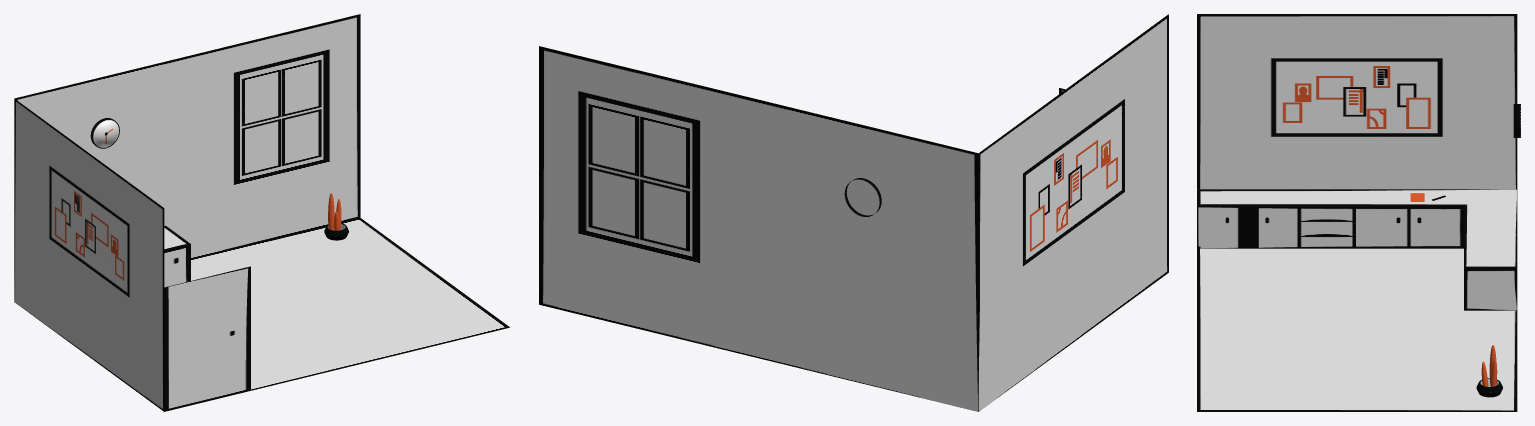
The model's file is office1.fbx.
3 renders of one model, left to right at view 1: azimuth 30°, elevation 25°; view 2: azimuth 150°, elevation 25°; view 3: azimuth 270°, elevation 25°, orthographic. The views are drawn at different scales.
Parts seen in each view (by area): view 1: Cube.000; view 2: Cube.000; view 3: Cube.000.
Boxes of the visible parts, <box> form: Cube.000: <box>14,14,510,411</box>; Cube.000: <box>539,14,1168,411</box>; Cube.000: <box>1197,14,1520,411</box>.
Size of the model in its own units: 3200 by 1800 by 2427.
Materials: 2 (2 with a texture image).
